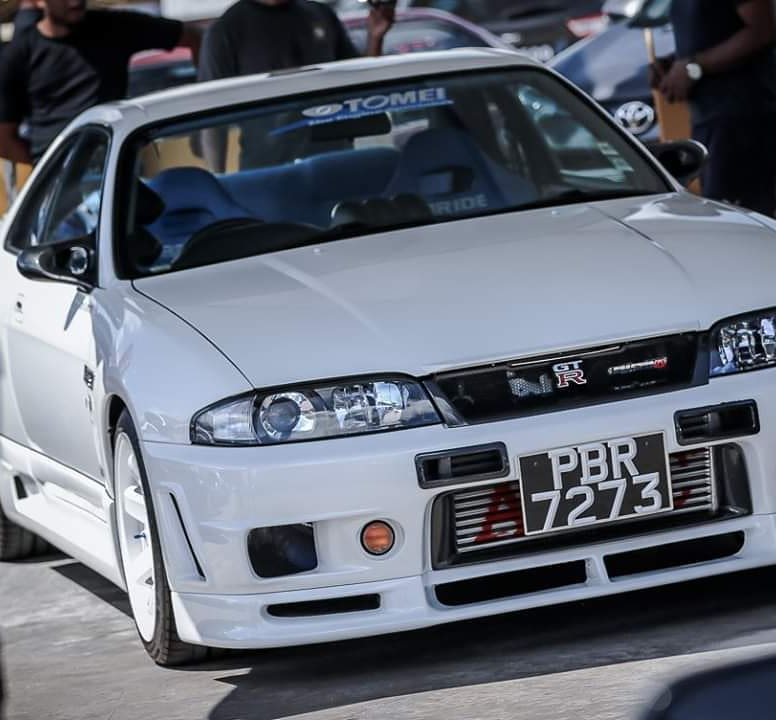License-Plate: (515, 454, 661, 535)
